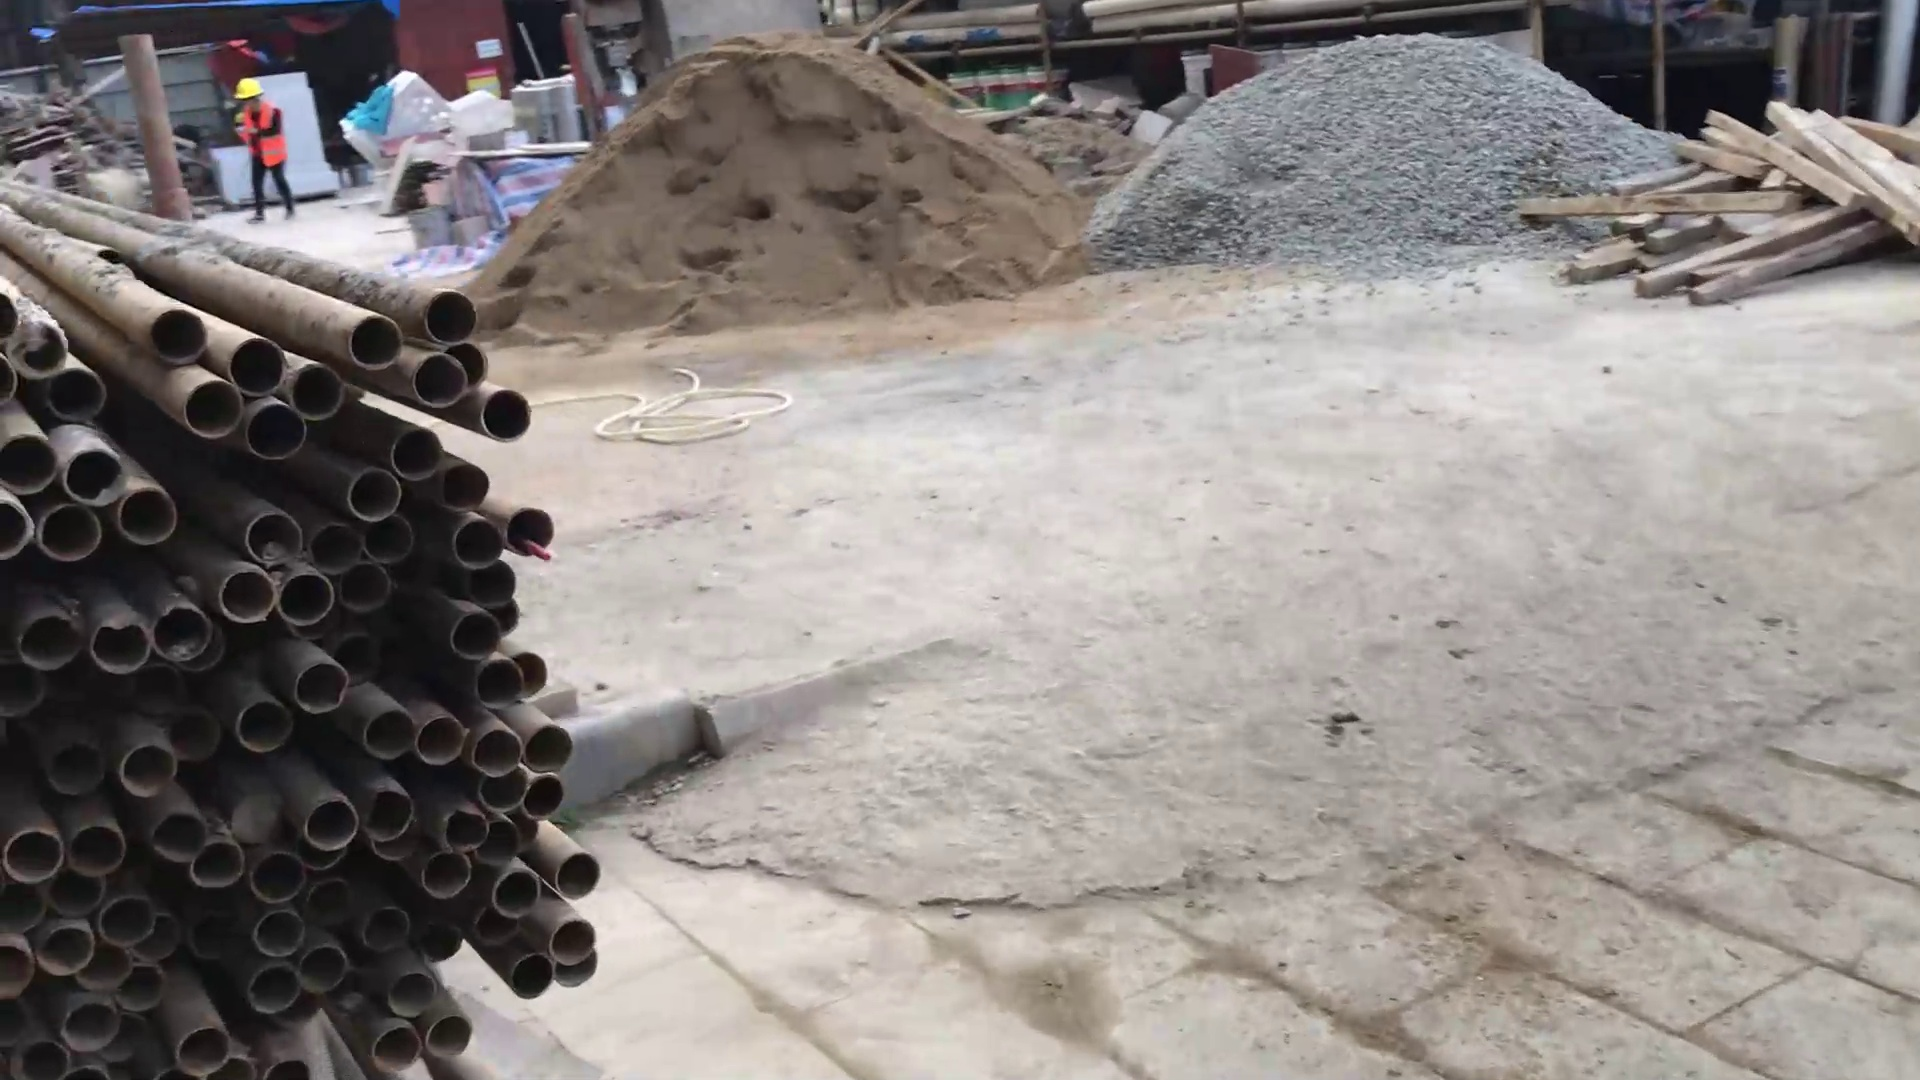helmet: (229, 69, 267, 108)
person: (228, 78, 317, 230)
vest: (236, 104, 292, 172)
